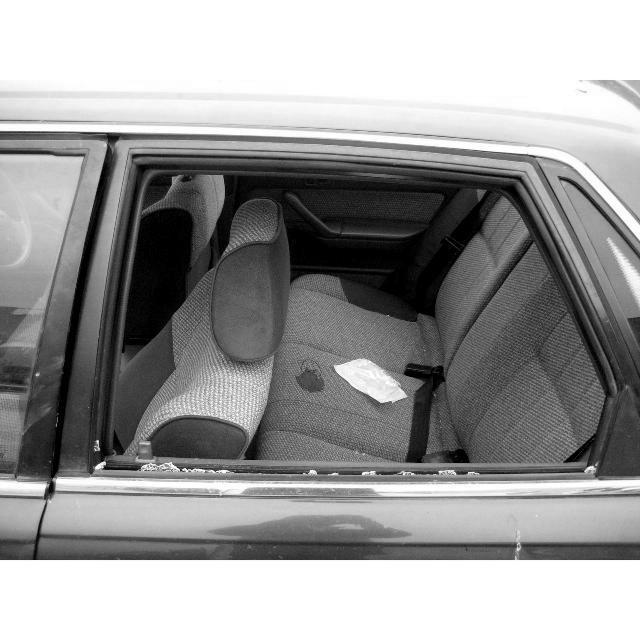doorouter-dent: (113, 109, 617, 547)
